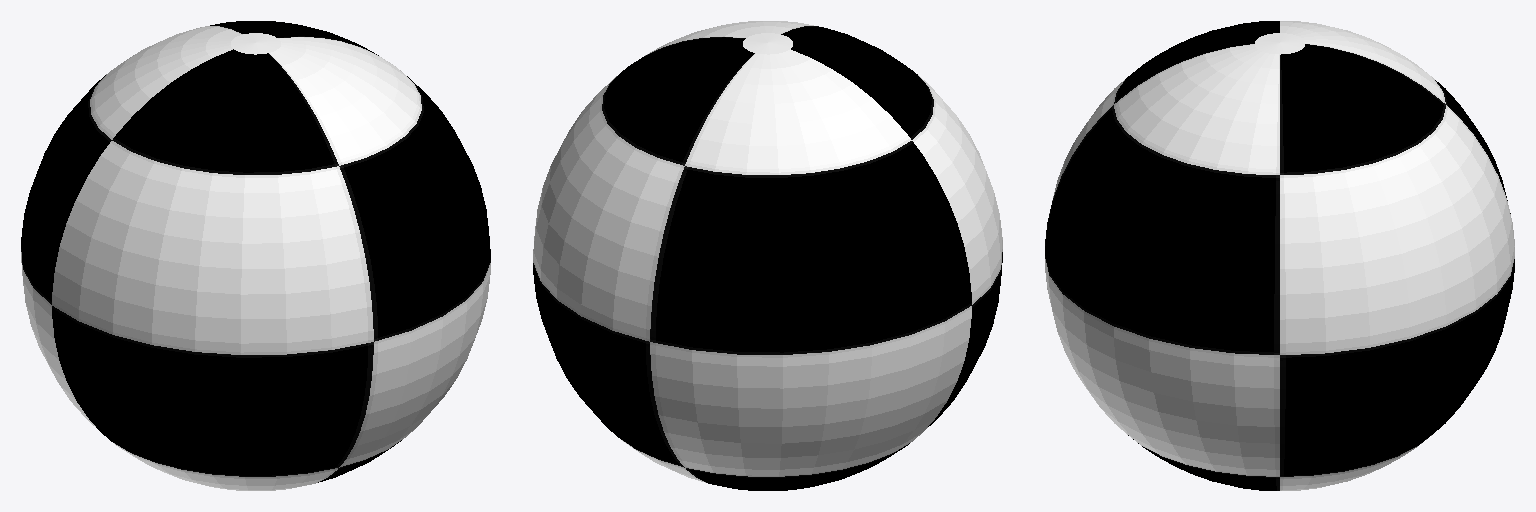
The picture shows the model from 3 angles: view 1: azimuth 30°, elevation 25°; view 2: azimuth 150°, elevation 25°; view 3: azimuth 270°, elevation 25°; orthographic projection.
Visible parts, largest first — view 1: Sphere_Sphere.001; view 2: Sphere_Sphere.001; view 3: Sphere_Sphere.001.
Part boxes in pixels (x1,y1,x2,y2): Sphere_Sphere.001: (21, 21, 490, 490); Sphere_Sphere.001: (533, 21, 1002, 490); Sphere_Sphere.001: (1045, 21, 1514, 490).
Bounding box in the file's own units: 2 × 2 × 2.
Materials: 1 (1 with a texture image).